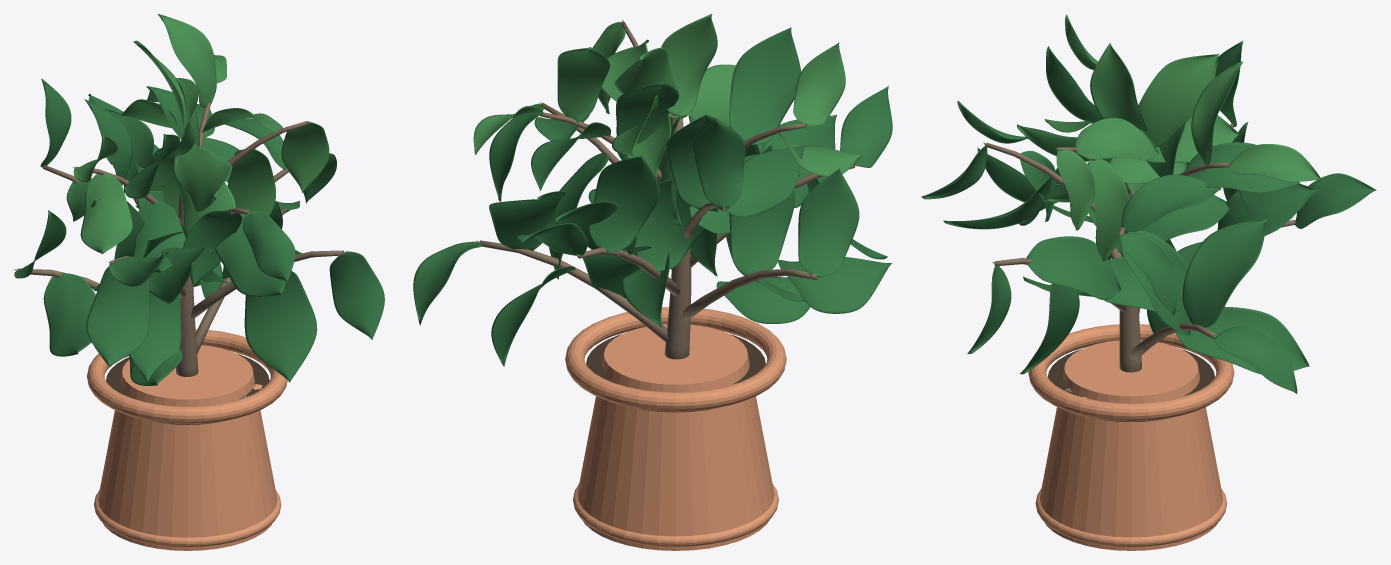
Rendered from conservatory_plant_1.glb.
The picture shows the model from 3 angles, left to right: view 1: azimuth 30°, elevation 25°; view 2: azimuth 150°, elevation 25°; view 3: azimuth 270°, elevation 25°; orthographic projection. The views are drawn at different scales.
Parts seen in each view (by area): view 1: Cone, Torus.001, LeafBlade_303_9, LeafBlade_303_18, LeafBlade_303_11, LeafBlade_303_6, LeafBlade_303_38, LeafBlade_303_16, LeafBlade_303_34, LeafBlade_303_47, LeafBlade_303_29, LeafBlade_303_31 (+32 smaller); view 2: Cone, Torus.001, LeafBlade_303_37, LeafBlade_303_7, LeafBlade_303_14, LeafBlade_303_6, LeafBlade_303_27, LeafBlade_303_5, LeafBlade_303_26, LeafBlade_303_46, LeafBlade_303_12, LeafBlade_303_39 (+35 smaller); view 3: Cone, Torus.001, LeafBlade_303_2, LeafBlade_303_45, LeafBlade_303_10, LeafBlade_303_22, LeafBlade_303_1, LeafBlade_303_3, LeafBlade_303_46, LeafBlade_303_13, LeafBlade_303_42, LeafBlade_303_41 (+29 smaller).
Boxes of the visible parts, x1,y1,x2,y2 form: Cone: [98, 345, 277, 537]; Torus.001: [87, 329, 287, 424]; LeafBlade_303_9: [244, 271, 317, 382]; LeafBlade_303_18: [86, 266, 149, 366]; LeafBlade_303_11: [329, 251, 384, 339]; LeafBlade_303_6: [43, 272, 95, 356]; LeafBlade_303_38: [80, 172, 132, 253]; LeafBlade_303_16: [129, 291, 181, 381]; LeafBlade_303_34: [157, 14, 216, 108]; LeafBlade_303_47: [174, 146, 231, 211]; LeafBlade_303_29: [215, 213, 285, 296]; LeafBlade_303_31: [243, 211, 295, 281]; Cone: [577, 324, 774, 536]; Torus.001: [565, 307, 786, 411]; LeafBlade_303_37: [729, 27, 800, 144]; LeafBlade_303_7: [798, 168, 859, 277]; LeafBlade_303_14: [589, 156, 659, 253]; LeafBlade_303_6: [778, 257, 891, 313]; LeafBlade_303_27: [692, 119, 745, 208]; LeafBlade_303_5: [729, 145, 795, 275]; LeafBlade_303_26: [725, 145, 804, 216]; LeafBlade_303_46: [661, 14, 717, 116]; LeafBlade_303_12: [635, 179, 718, 271]; LeafBlade_303_39: [793, 42, 845, 125]; Cone: [1039, 340, 1223, 537]; Torus.001: [1028, 324, 1234, 421]; LeafBlade_303_2: [1182, 218, 1267, 327]; LeafBlade_303_45: [1138, 54, 1218, 147]; LeafBlade_303_10: [1026, 236, 1120, 300]; LeafBlade_303_22: [1121, 174, 1221, 231]; LeafBlade_303_1: [1175, 306, 1309, 373]; LeafBlade_303_3: [1214, 326, 1297, 393]; LeafBlade_303_46: [1090, 43, 1147, 131]; LeafBlade_303_13: [1217, 184, 1317, 235]; LeafBlade_303_42: [1074, 118, 1158, 160]; LeafBlade_303_41: [1088, 159, 1129, 261].
Bounding box in the file's own units: 1.53 × 1.99 × 1.77.
